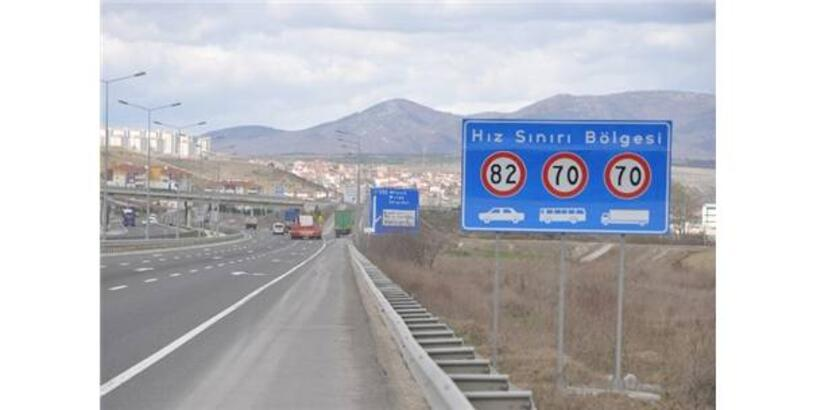70 Km Hiz Siniri: (602, 152, 654, 197), (543, 154, 592, 195)
